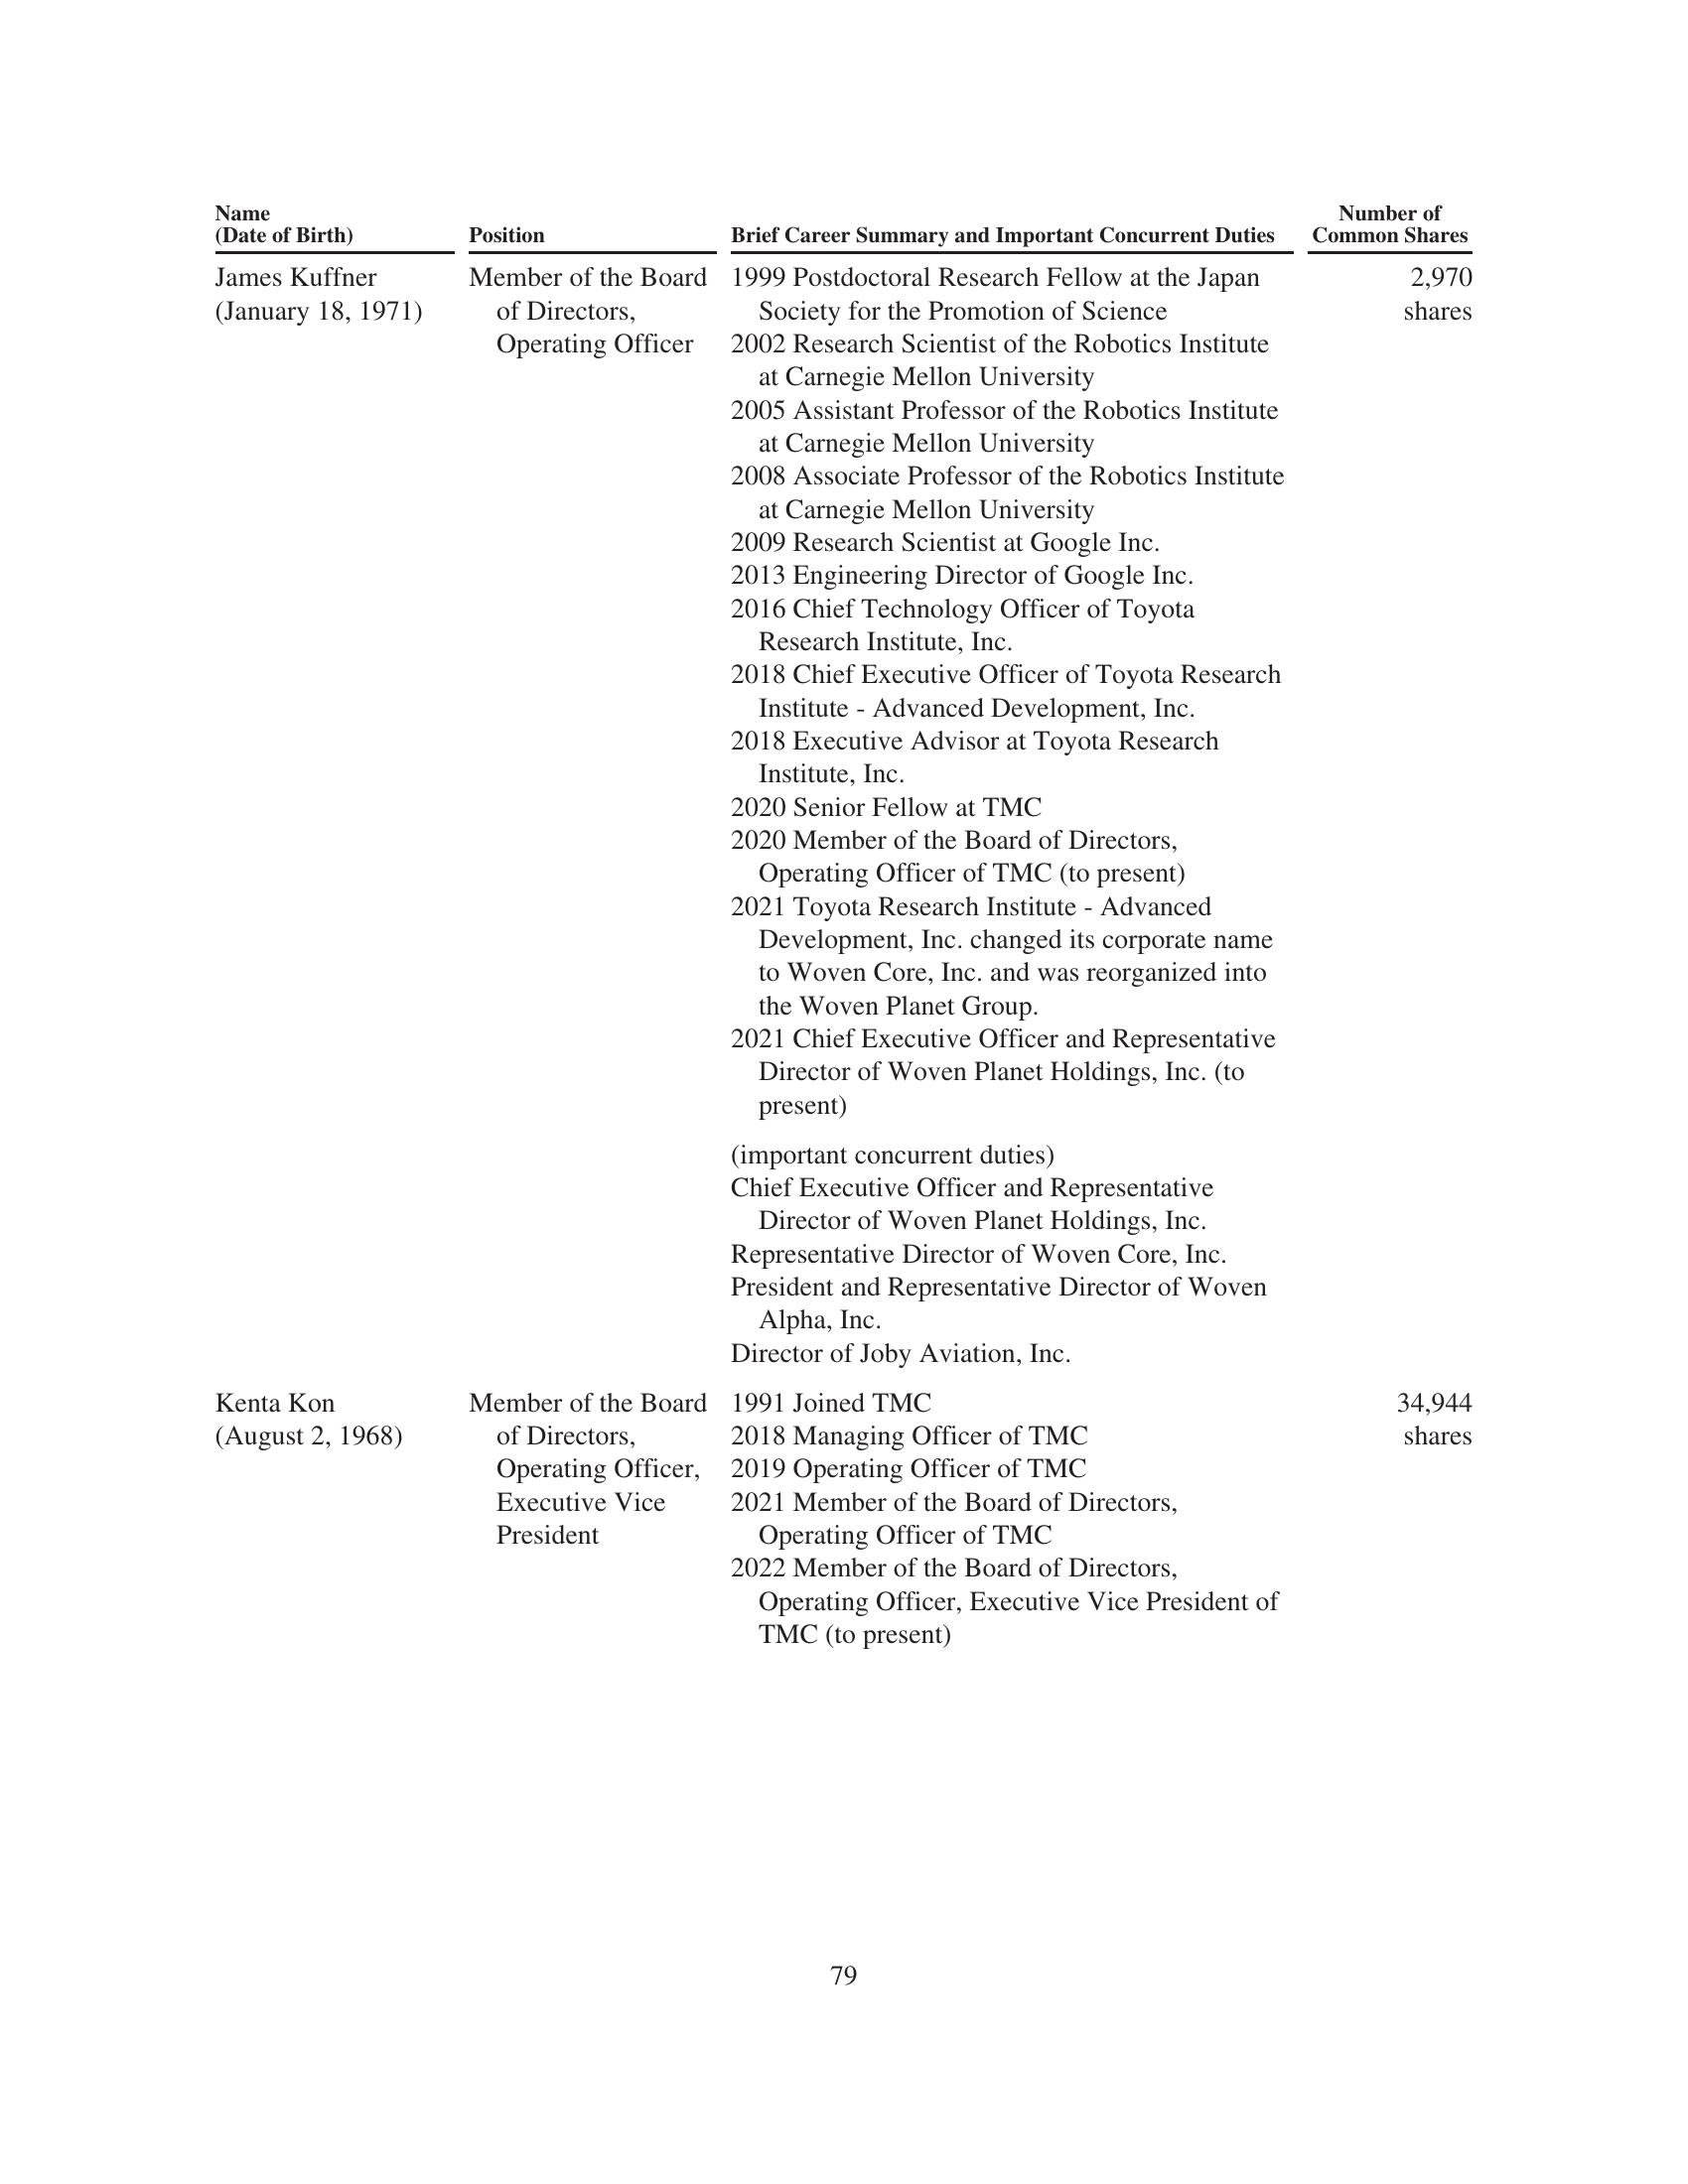Footer: (0, 1941, 1688, 2184)
Header: (0, 0, 1688, 170)
Table: (133, 175, 1576, 1691)
